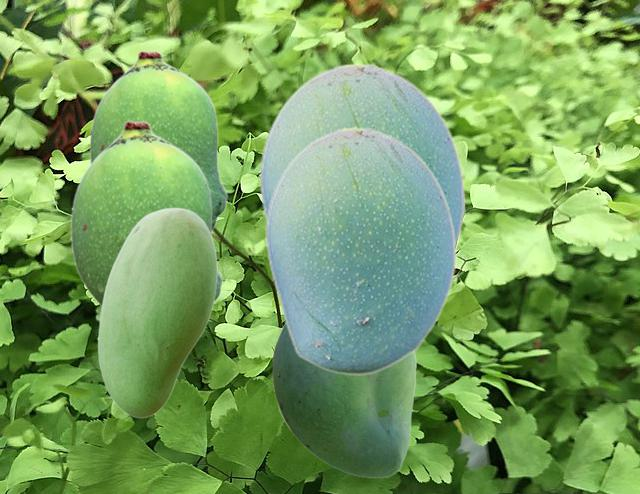green_mango: (264, 126, 456, 375), (258, 62, 465, 252), (70, 120, 222, 306), (97, 207, 216, 417), (89, 50, 227, 231), (272, 323, 415, 477)
